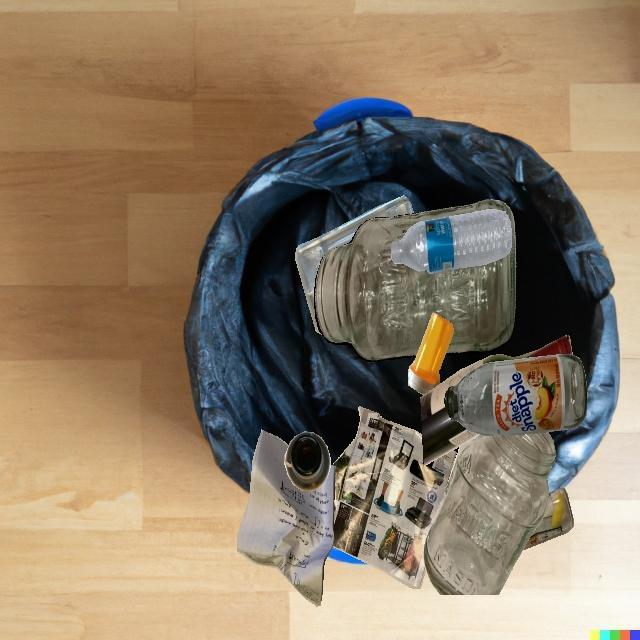glass: (314, 199, 516, 362), (423, 432, 556, 595), (420, 335, 572, 466), (444, 354, 587, 435), (522, 487, 573, 550), (284, 431, 330, 491)
paper: (332, 406, 456, 589), (237, 430, 335, 606), (548, 491, 549, 493)
plastic: (295, 195, 414, 334), (391, 209, 512, 274), (408, 312, 454, 395)
